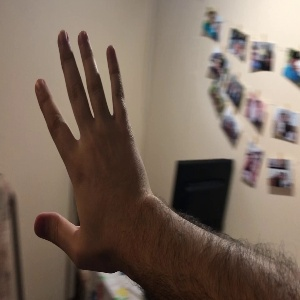hand: (35, 31, 147, 263)
